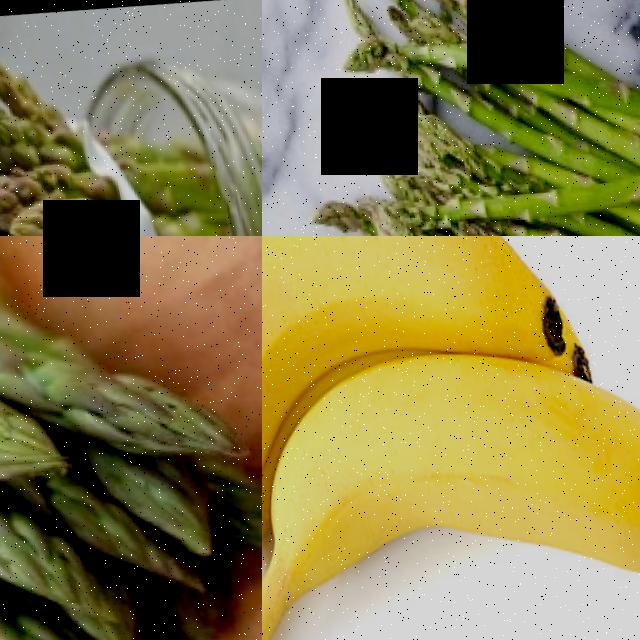asparagus: (324, 0, 640, 138), (406, 87, 640, 236), (59, 316, 262, 473), (0, 454, 86, 613), (0, 349, 71, 485), (3, 166, 122, 236)
banana: (262, 236, 640, 640)
